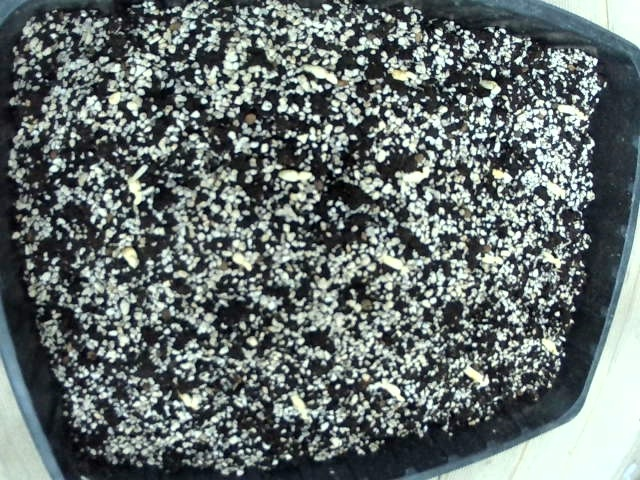발아기: (378, 57, 447, 108), (272, 148, 327, 209), (87, 74, 149, 124), (376, 154, 437, 204), (94, 238, 152, 288), (469, 242, 534, 286), (215, 249, 273, 295), (111, 157, 170, 202), (284, 55, 335, 105), (169, 385, 225, 429), (464, 157, 520, 201), (545, 176, 605, 217), (287, 392, 334, 442), (468, 70, 515, 119), (372, 248, 417, 298), (525, 241, 577, 280), (385, 371, 434, 408), (535, 334, 587, 367), (464, 367, 510, 403), (551, 97, 596, 130)
